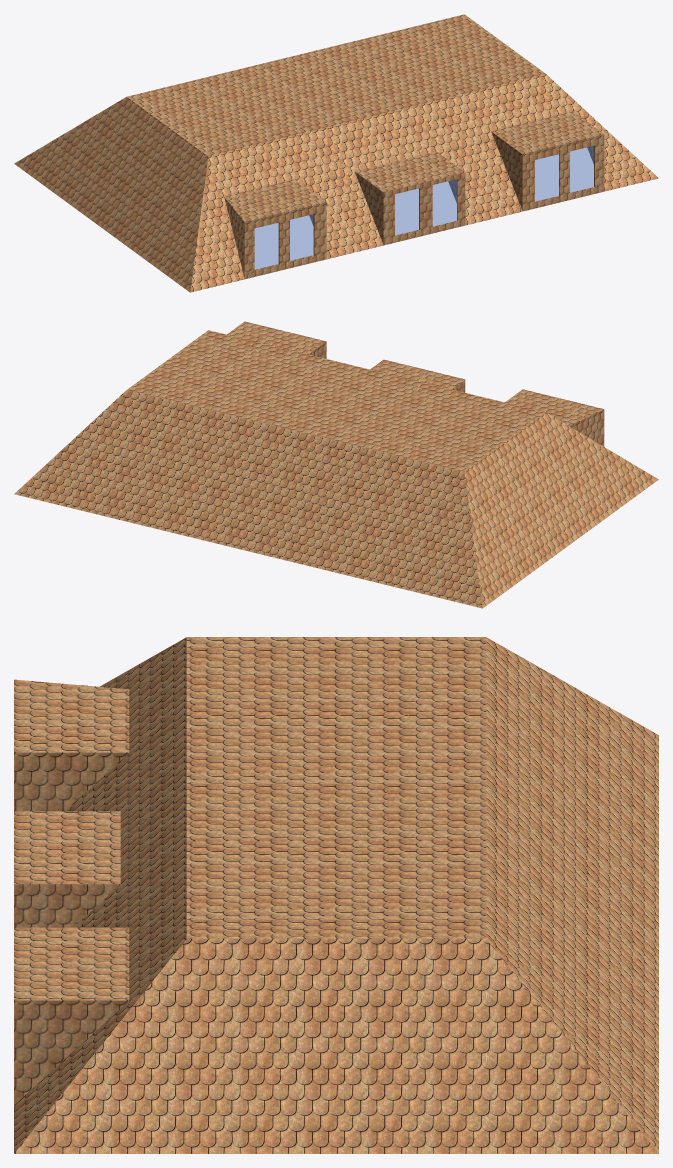
Rendered from maison3_roof.dae.
3 renders of one model, top to bottom at view 1: azimuth 30°, elevation 25°; view 2: azimuth 150°, elevation 25°; view 3: azimuth 270°, elevation 25°, orthographic. The views are drawn at different scales.
Visible parts, largest first — view 1: group_0 (×8); view 2: group_0; view 3: group_0.
Boxes of the visible parts, x1,y1,x2,y2 form: group_0 (×8): (14,14,658,292); group_0: (14,321,658,608); group_0: (14,637,658,1153).
Size of the model in its own units: 339 by 220 by 59.06.
3 materials, 1 textured.
